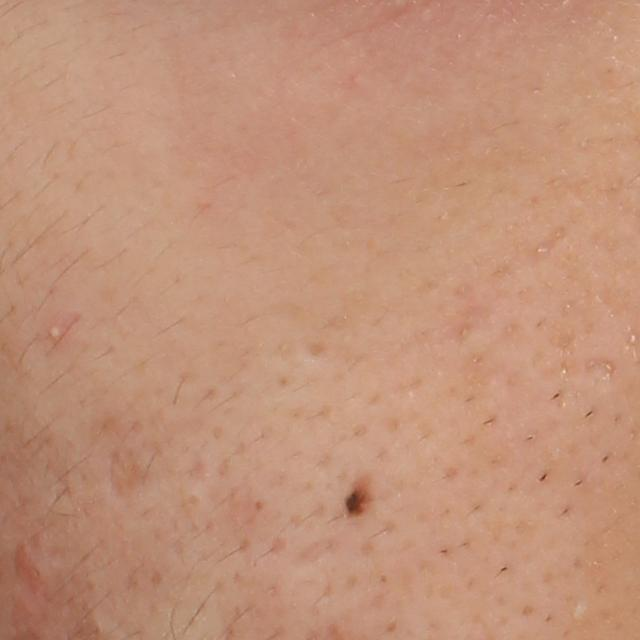atrophic_scar: (435, 228, 569, 351), (289, 531, 349, 569), (110, 449, 149, 496), (580, 360, 618, 382)
nevus: (342, 479, 374, 521)
